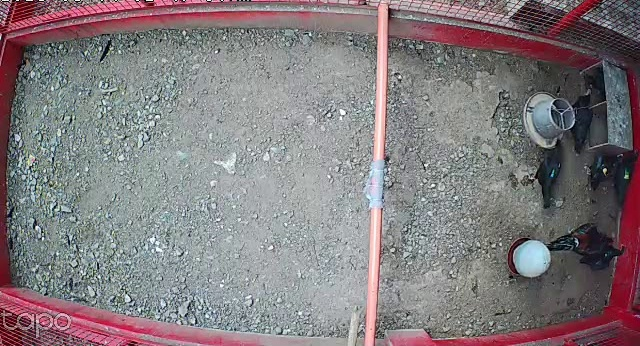Chicken: (527, 133, 567, 214), (568, 83, 598, 155), (574, 238, 631, 274), (609, 147, 640, 211), (584, 146, 621, 193)
Rooster: (543, 219, 614, 257)
Saddle_Color_YellowGreen: (621, 168, 632, 181)
